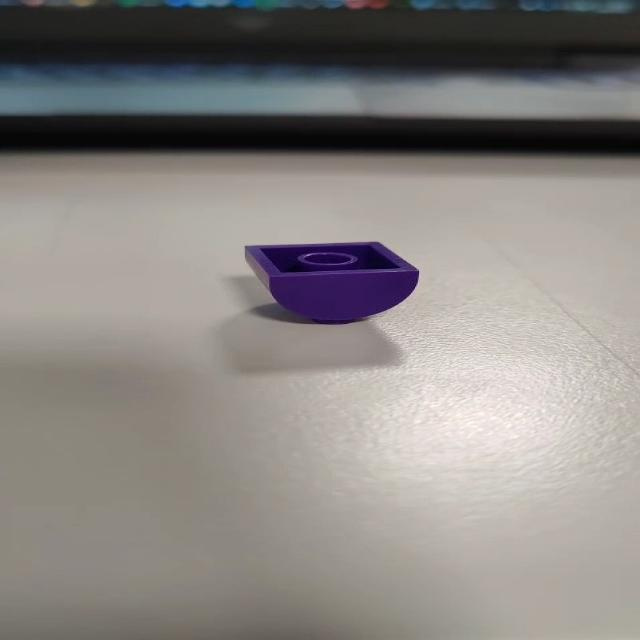H2x2x1: (238, 242, 428, 326)
